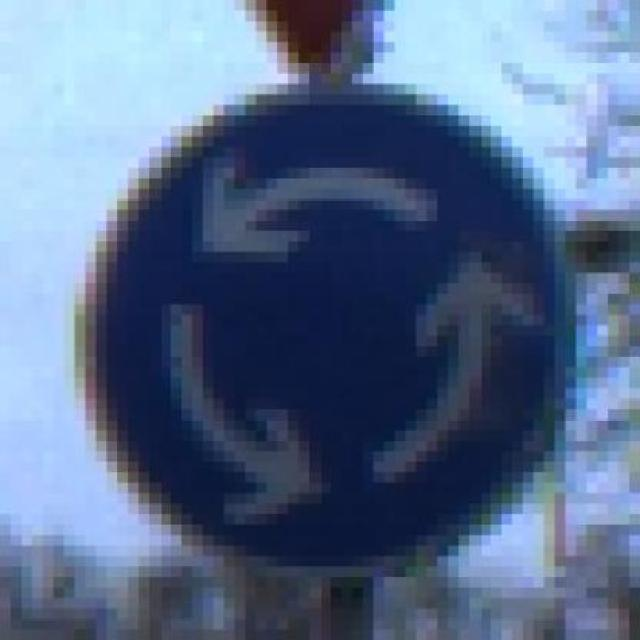Round-About: (53, 74, 598, 588)
